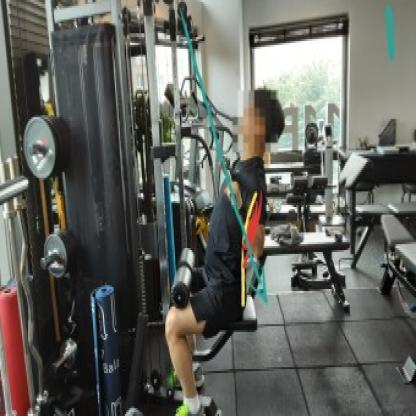Lat Pull Down: (0, 0, 275, 416)
